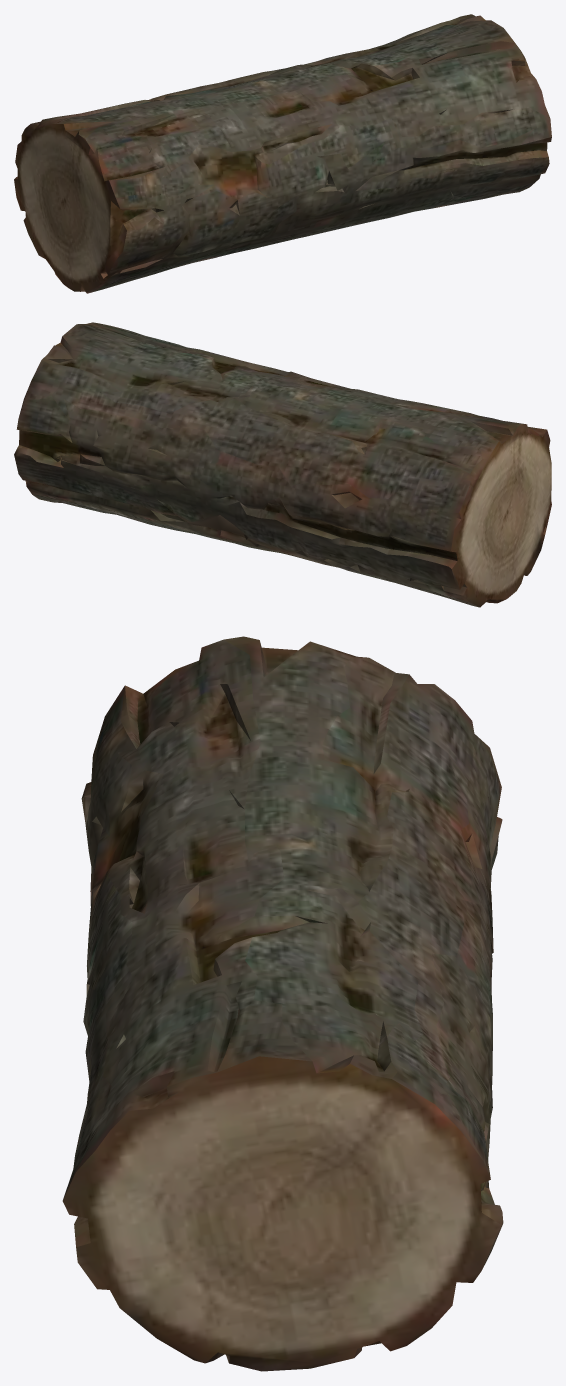
File: logseat.glb
3 views of the same model, one above another, from view 1: azimuth 30°, elevation 25°; view 2: azimuth 150°, elevation 25°; view 3: azimuth 270°, elevation 25° (orthographic). The views are drawn at different scales.
Visible parts, largest first — view 1: logseat; view 2: logseat; view 3: logseat.
Boxes of the visible parts, <box> form: logseat: <box>14,14,551,293</box>; logseat: <box>14,322,551,607</box>; logseat: <box>62,636,503,1371</box>.
Size of the model in its own units: 1.18 by 0.4198 by 0.5189.
1 material, 1 textured.
